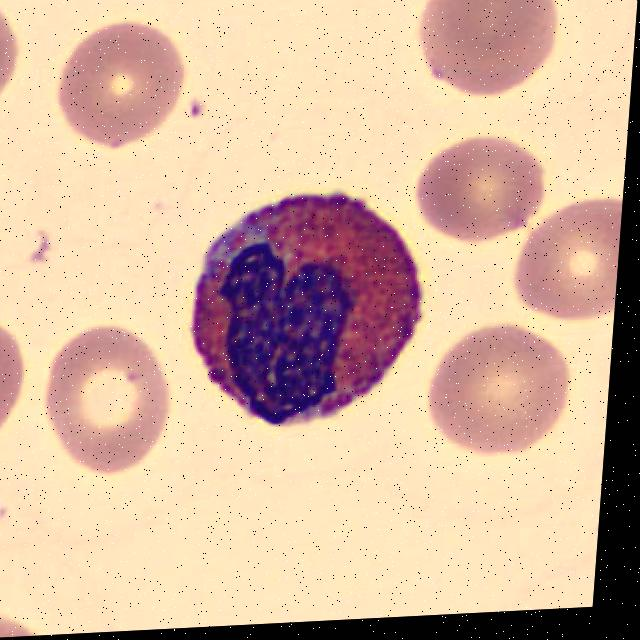eosinophil: (182, 182, 431, 433)
rbc: (405, 309, 581, 464), (34, 313, 184, 486), (47, 18, 207, 165), (396, 0, 577, 112), (399, 126, 548, 246), (500, 194, 623, 336), (0, 302, 37, 460), (0, 589, 60, 640), (0, 3, 28, 105)
